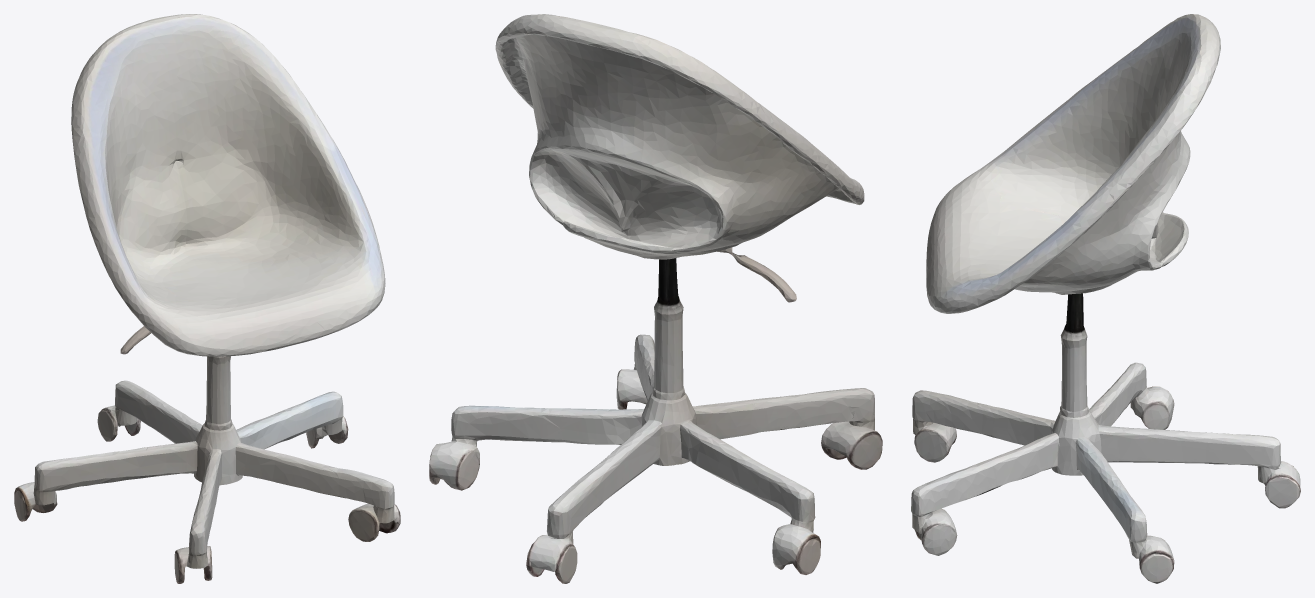
The picture shows the model from 3 angles, left to right: view 1: azimuth 30°, elevation 25°; view 2: azimuth 150°, elevation 25°; view 3: azimuth 270°, elevation 25°; orthographic projection. The views are drawn at different scales.
Visible parts, largest first — view 1: geometry_0; view 2: geometry_0; view 3: geometry_0.
Part boxes in pixels (left/top/right/bottom): geometry_0: left=14, top=14, right=400, bottom=583; geometry_0: left=429, top=14, right=882, bottom=583; geometry_0: left=911, top=14, right=1300, bottom=583.
Size of the model in its own units: 0.7617 by 1 by 0.7565.
Materials: 1 (1 with a texture image).
